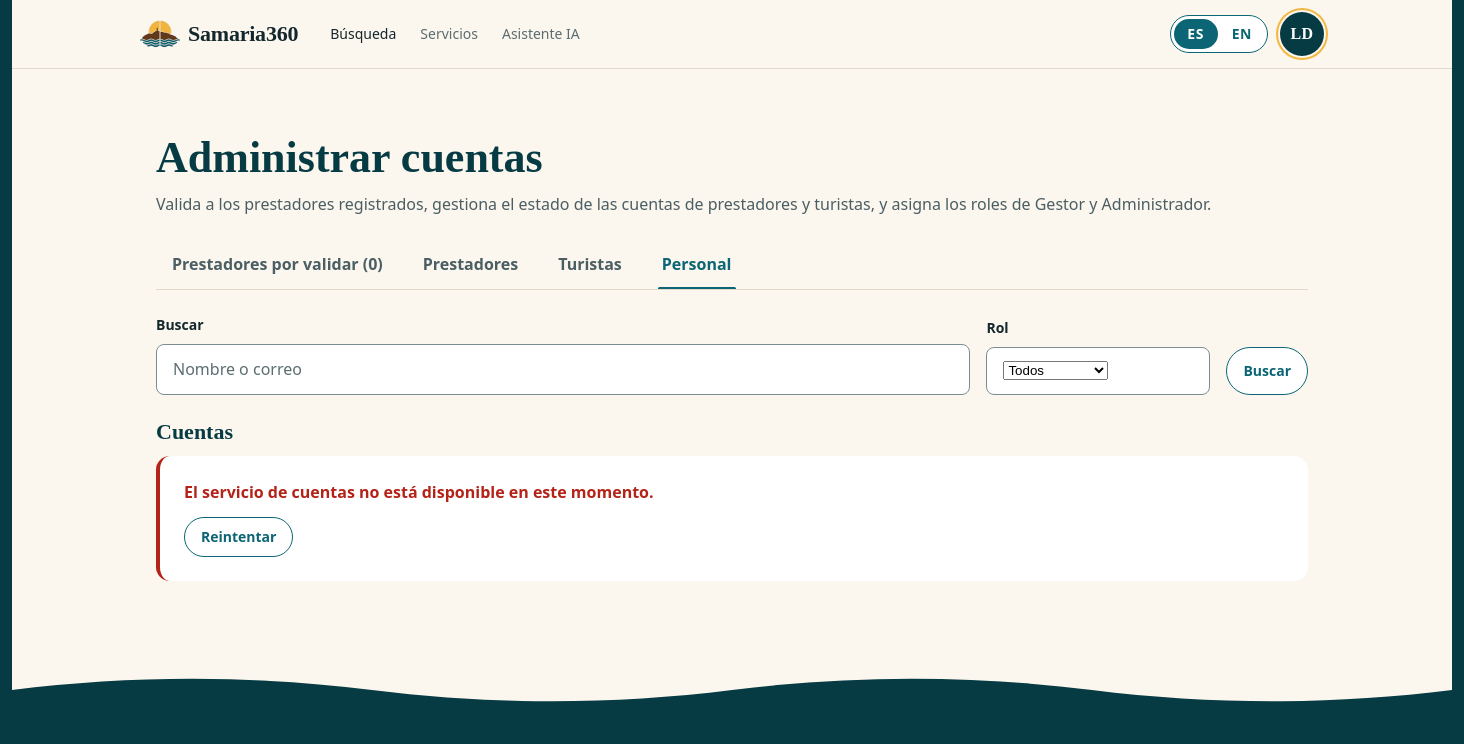
«Personal»: Consultar personal (RF45, DEC-115) › un error de la lista se muestra con «Reintentar», que vuelve a consultar
The image size is (1464, 744).
Expected: the message shows "El servicio de cuentas no está disponible en este momento.", [184,481,654,503]
Click the button "Reintentar". click: [239, 537]
box: [184,517,293,557]
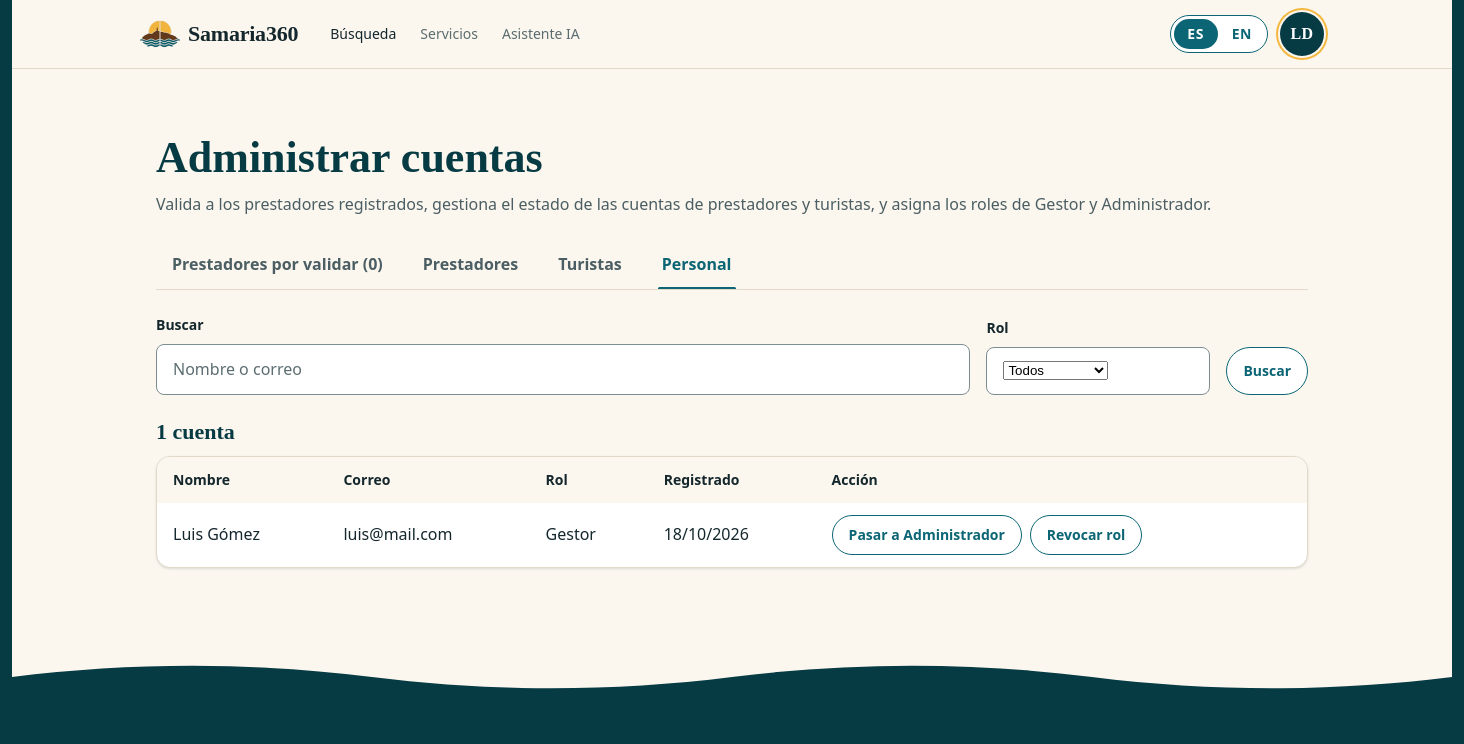
Expected: the text "luis@mail.com" is shown, [328,503,530,567]
